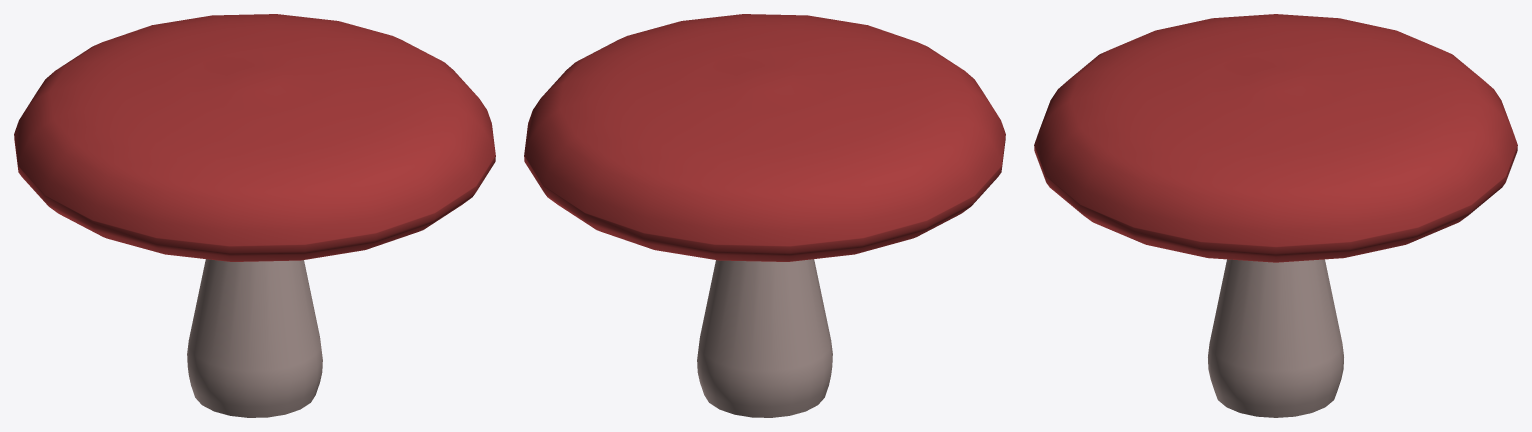
The model's file is Mesh_Mushroom_01.fbx.
3 views of the same model, side by side, from view 1: azimuth 30°, elevation 25°; view 2: azimuth 150°, elevation 25°; view 3: azimuth 270°, elevation 25° (orthographic).
Visible parts, largest first — view 1: Mushroom1; view 2: Mushroom1; view 3: Mushroom1.
Boxes of the visible parts, x1,y1,x2,y2 form: Mushroom1: (14, 14, 495, 417); Mushroom1: (524, 14, 1005, 417); Mushroom1: (1034, 14, 1517, 417).
Size of the model in its own units: 26.77 by 19.23 by 26.77.
